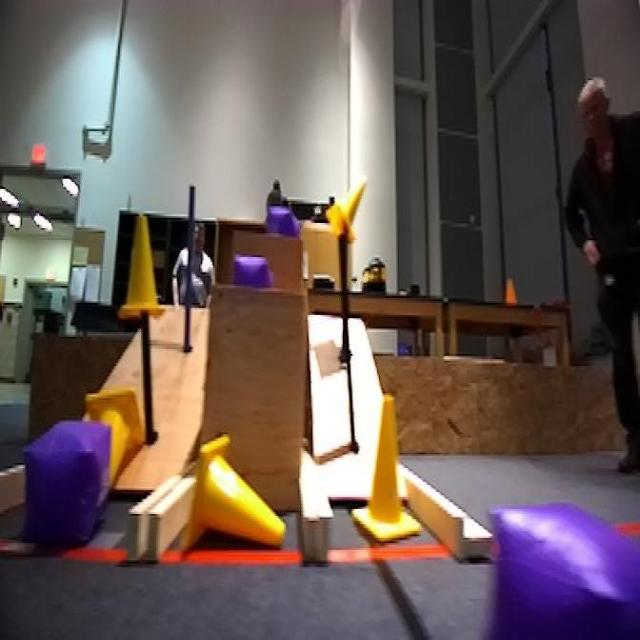frc_cone: (192, 431, 307, 555), (354, 395, 423, 545), (88, 385, 146, 502), (119, 214, 168, 328), (324, 172, 369, 248)
frc_cube: (487, 498, 640, 640), (18, 417, 110, 550), (258, 199, 293, 250), (234, 252, 274, 289)
